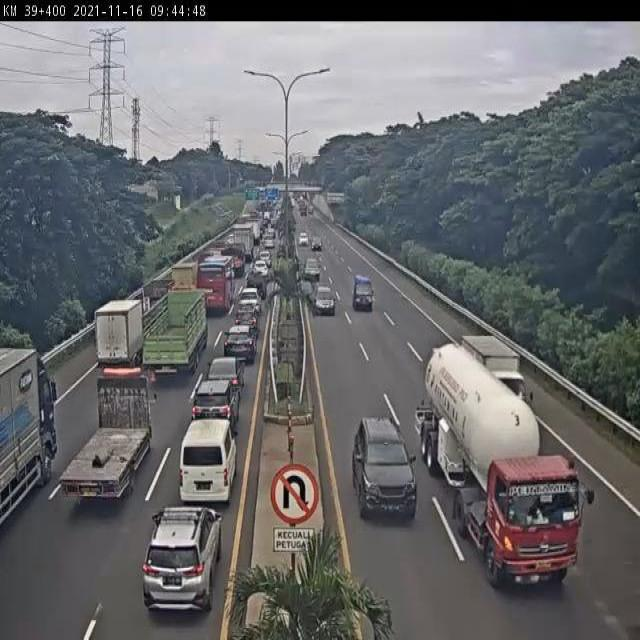big bus: (194, 253, 234, 316)
car: (143, 505, 221, 612), (351, 413, 420, 523), (188, 382, 236, 447), (205, 355, 246, 396), (223, 327, 255, 365), (353, 276, 375, 312), (232, 308, 259, 335), (236, 288, 261, 316), (315, 283, 335, 317)
small bus: (177, 422, 237, 507)
small truck: (462, 335, 535, 429), (163, 263, 196, 309)
truck-l-: (137, 295, 206, 381)
truck-m-: (63, 378, 154, 506), (94, 298, 147, 366), (130, 280, 168, 320)
truck-xl-: (423, 340, 592, 592)
